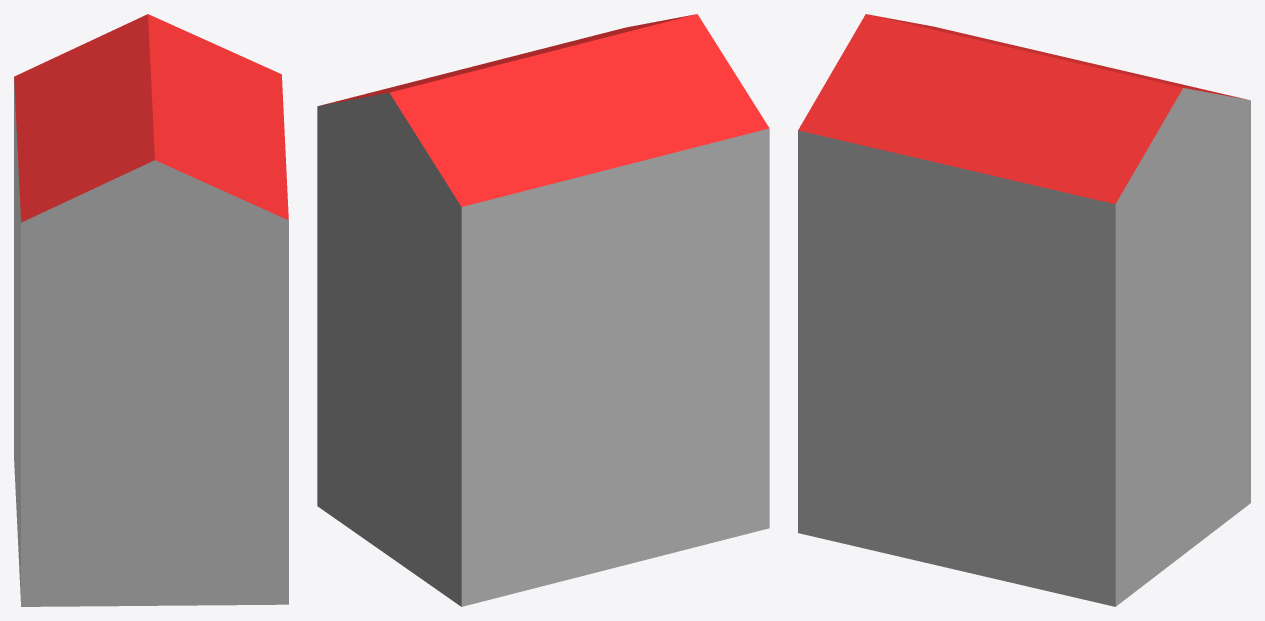
Rendered from pb-9635c0fd-7f36-11f0-a17d-9c7bef4dcf4c.dae.
3 renders of one model, left to right at view 1: azimuth 30°, elevation 25°; view 2: azimuth 150°, elevation 25°; view 3: azimuth 270°, elevation 25°, orthographic. The views are drawn at different scales.
Bounding box in the file's own units: 17.99 × 19.37 × 22.04.
